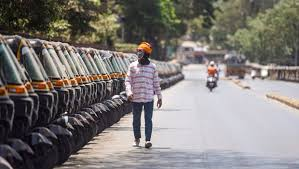mask: (134, 41, 151, 66)
